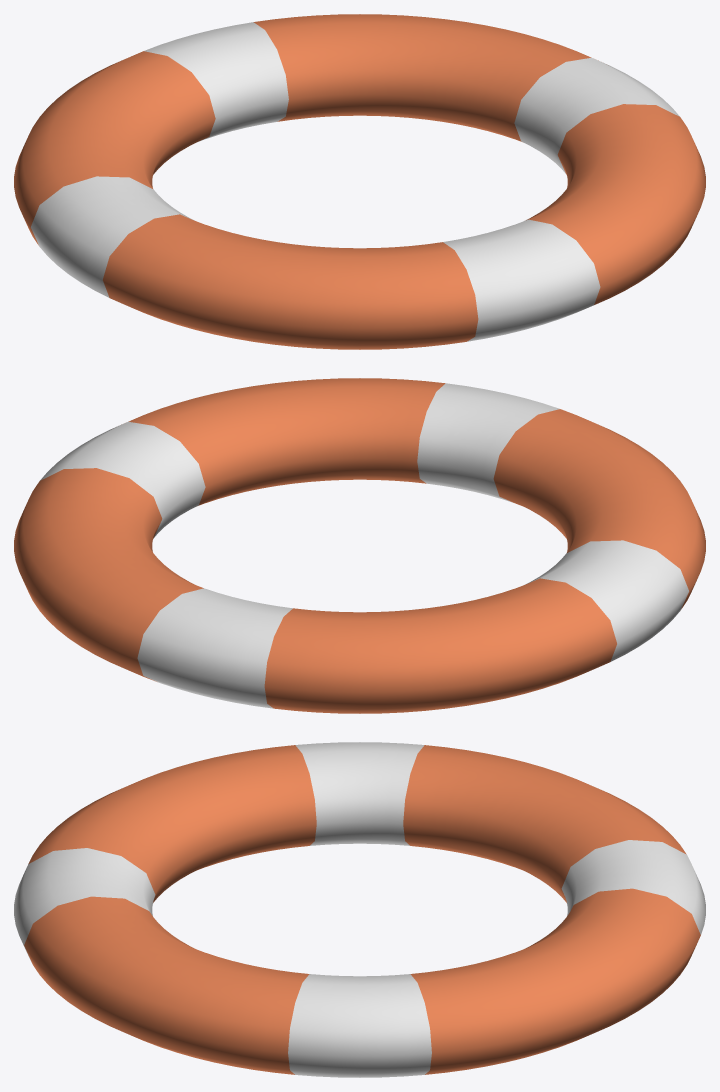
File: flotadorcuerda_low.fbx
3 renders of one model, top to bottom at view 1: azimuth 30°, elevation 25°; view 2: azimuth 150°, elevation 25°; view 3: azimuth 270°, elevation 25°, orthographic.
Visible parts, largest first — view 1: salvavidas; view 2: salvavidas; view 3: salvavidas.
Part boxes in pixels (left/top/right/bottom): salvavidas: left=14, top=14, right=705, bottom=349; salvavidas: left=14, top=378, right=705, bottom=713; salvavidas: left=14, top=742, right=705, bottom=1077.
Size of the model in its own units: 72.99 by 9.71 by 72.94.
